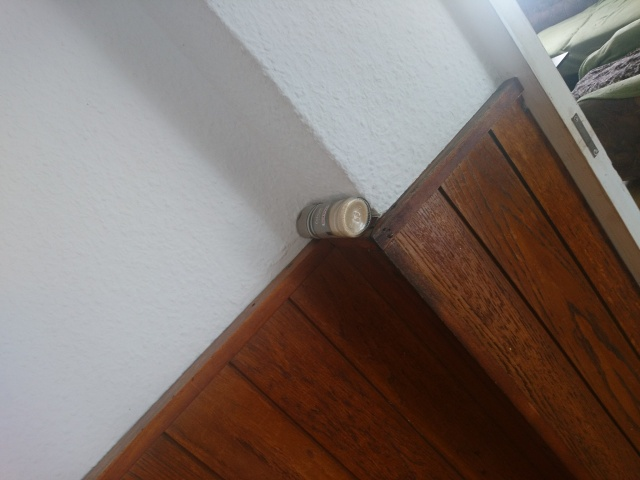Kotanyi Garlic Granules 70g: (293, 195, 374, 240)
